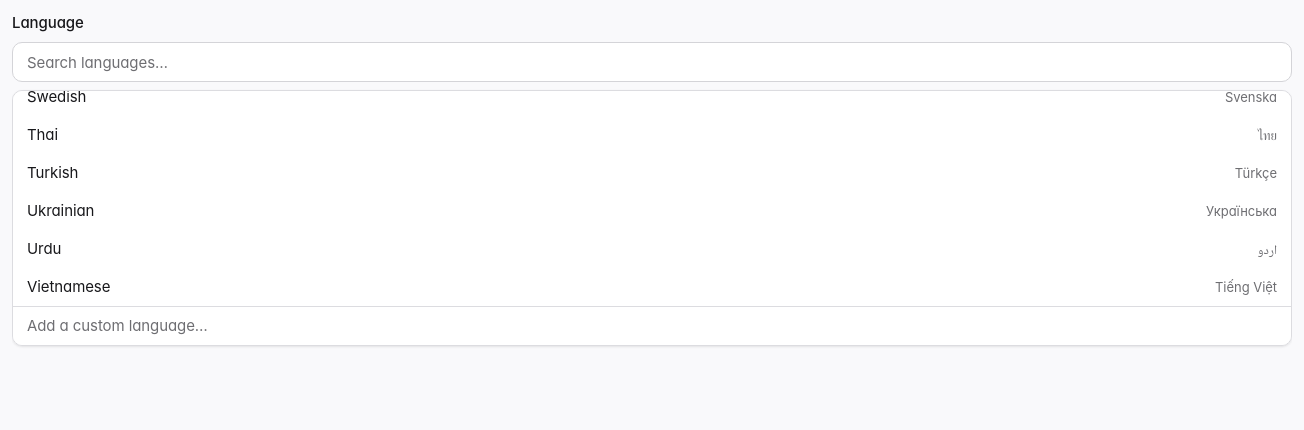
Test: AddLanguageForm — custom (experimental) path › blocks an empty name and shows a validation message
(page scrolled)
Click the option "Add a custom language…".
click(117, 326)  # box [13, 306, 1291, 345]
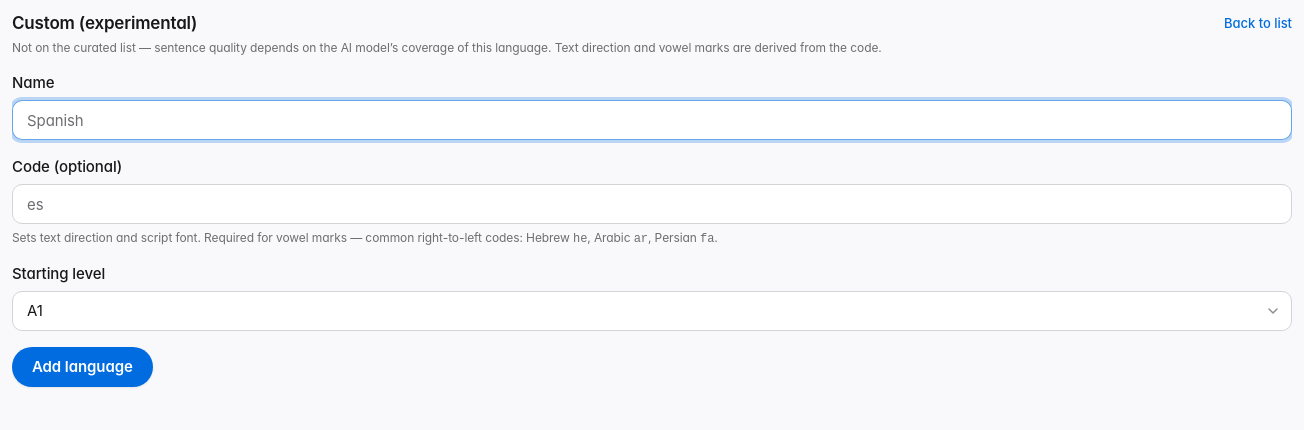
Click the button "Add language".
click(82, 367)  # box [12, 347, 153, 387]
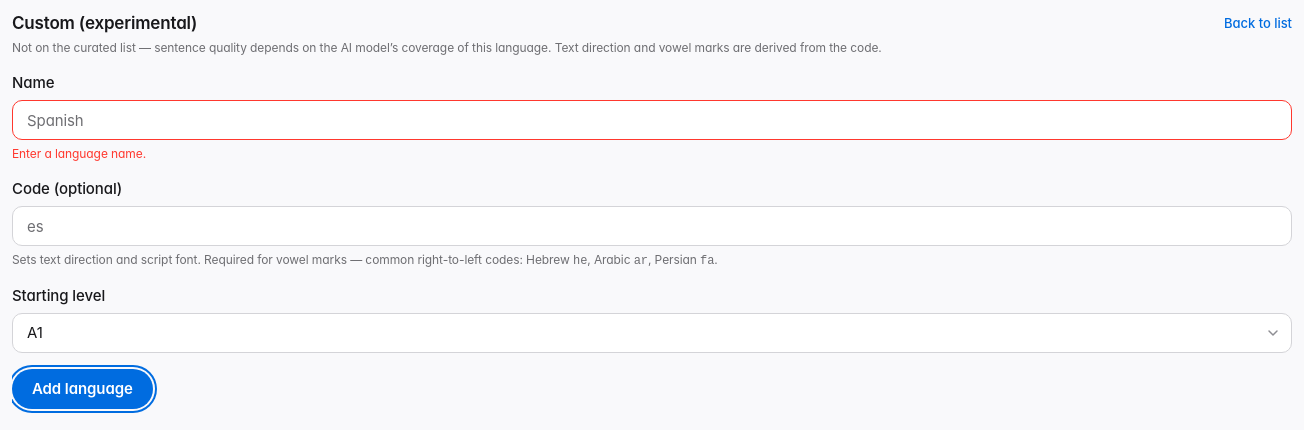
Result: the text "Enter a language name." is shown at [12, 146, 146, 161]
